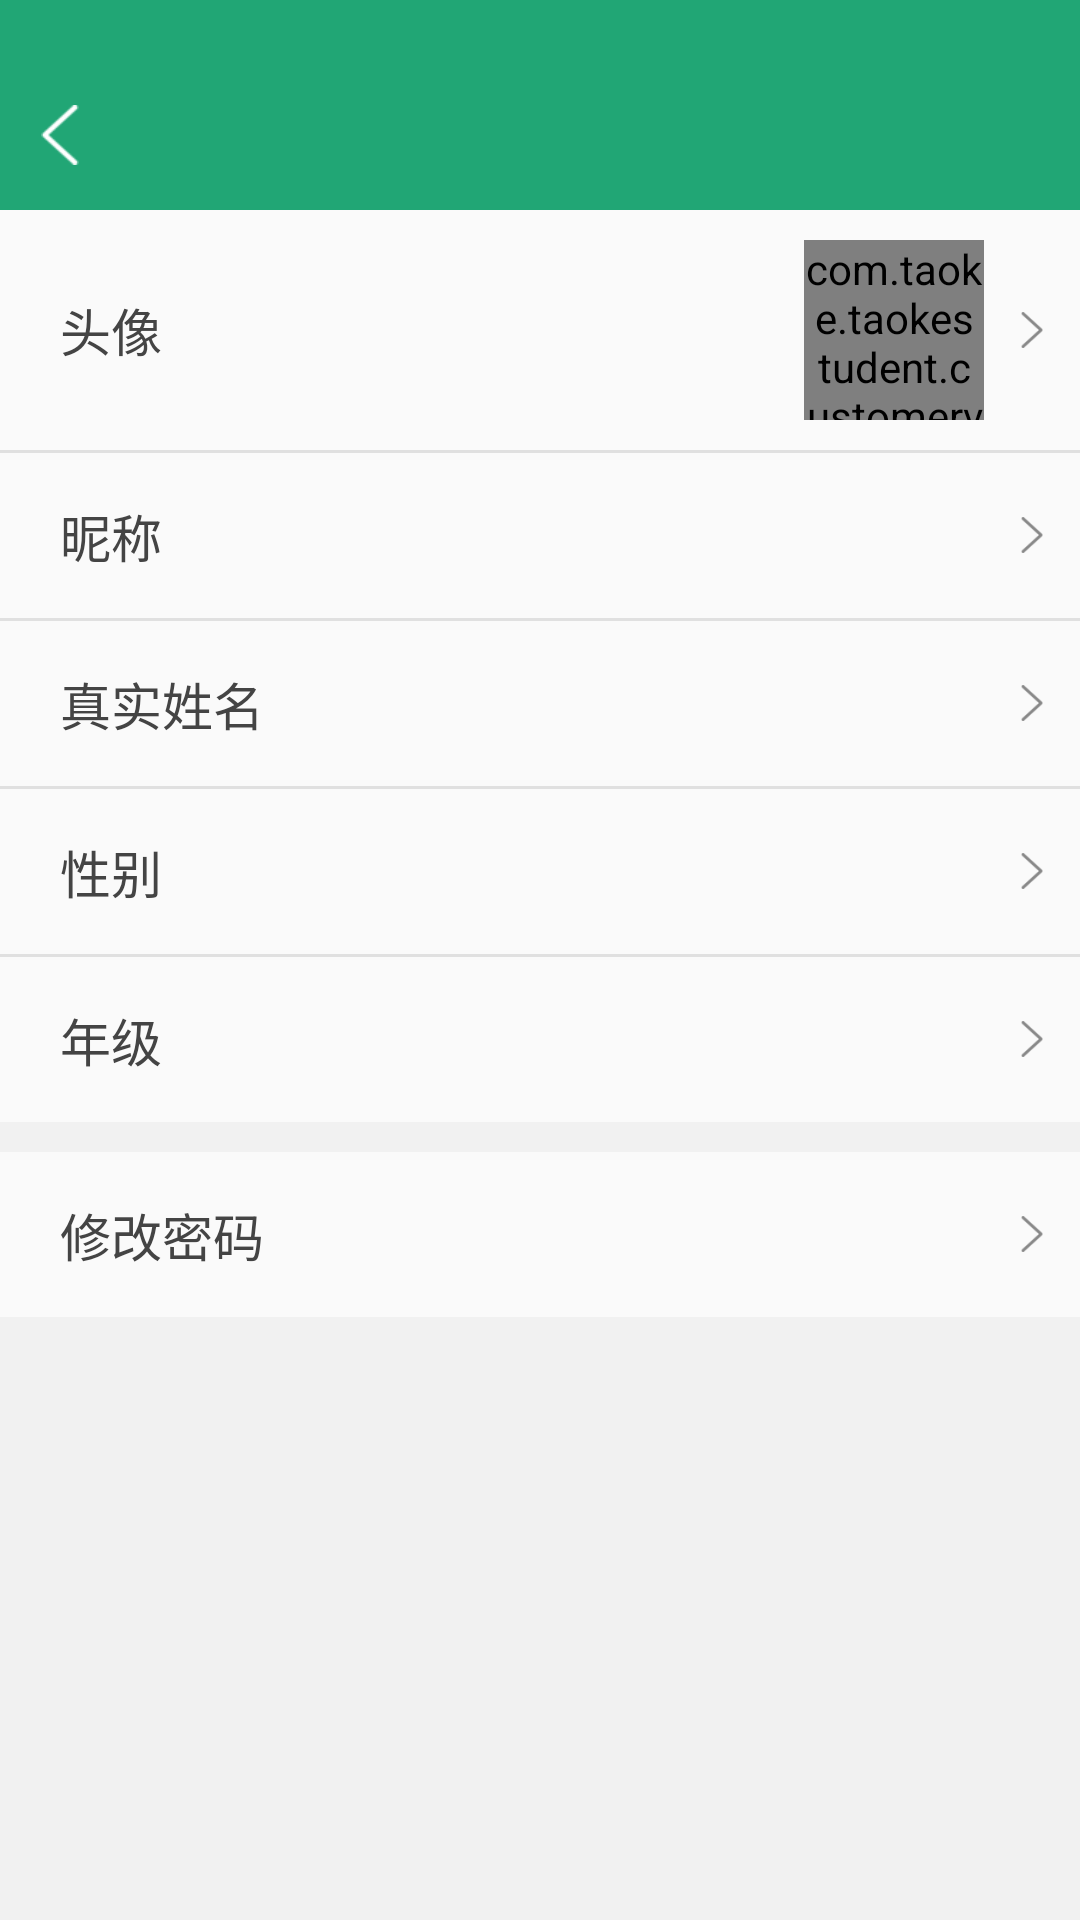

Named icons in this screenshot (1080x1920) and their centers, [x,y]:
arrow left: [60,135]
arrow right: [1032,330], [1032,535], [1032,703], [1032,871], [1032,1039], [1032,1234]
